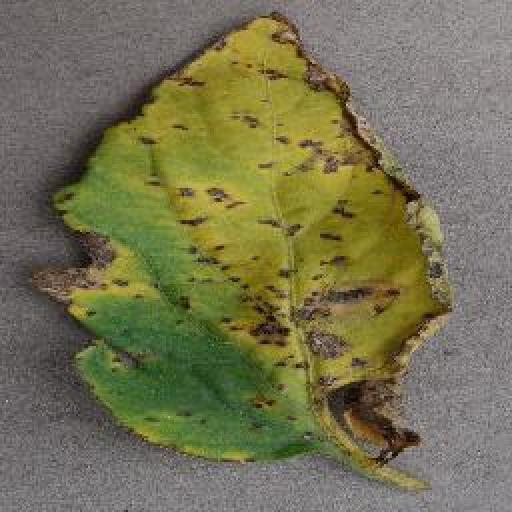Bacterial Spot: (24, 4, 458, 499)
